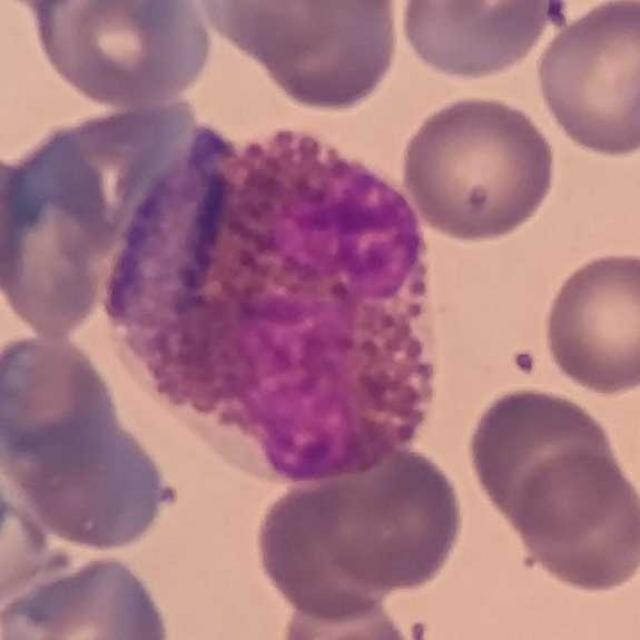Eosinophil: (70, 105, 472, 493)
Platelets: (506, 342, 541, 380)
RBC: (266, 435, 470, 599), (398, 90, 561, 246), (0, 131, 121, 338), (464, 382, 621, 538), (12, 412, 178, 554), (253, 475, 404, 622), (27, 0, 216, 109), (507, 443, 640, 596), (246, 0, 404, 115), (531, 1, 640, 160), (0, 330, 120, 474), (537, 245, 640, 397), (0, 551, 175, 640), (395, 0, 561, 85), (190, 0, 359, 63), (271, 586, 427, 640), (0, 134, 39, 310), (534, 0, 639, 41)
